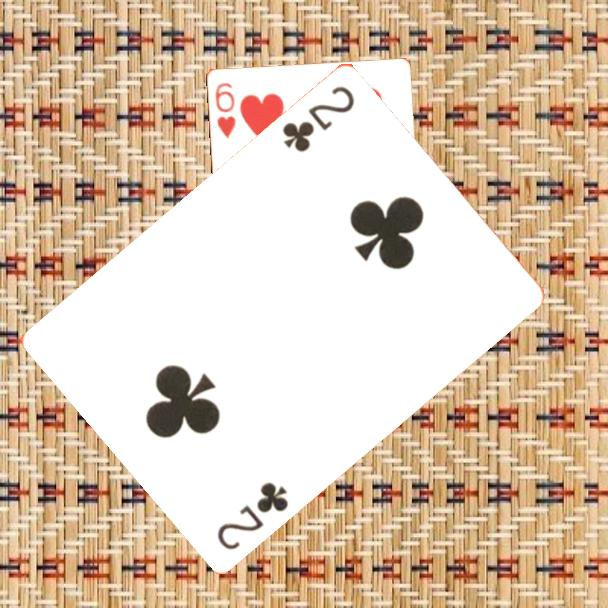c02: (213, 477, 292, 553), (278, 81, 358, 155)
h06: (211, 79, 238, 141)
